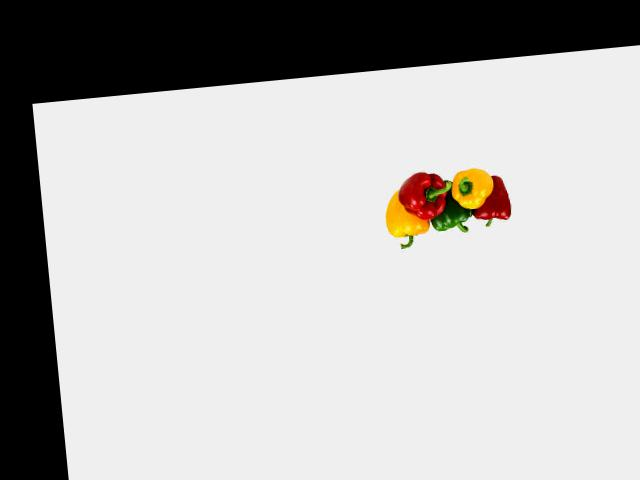bell_pepper: (470, 180, 515, 229)
